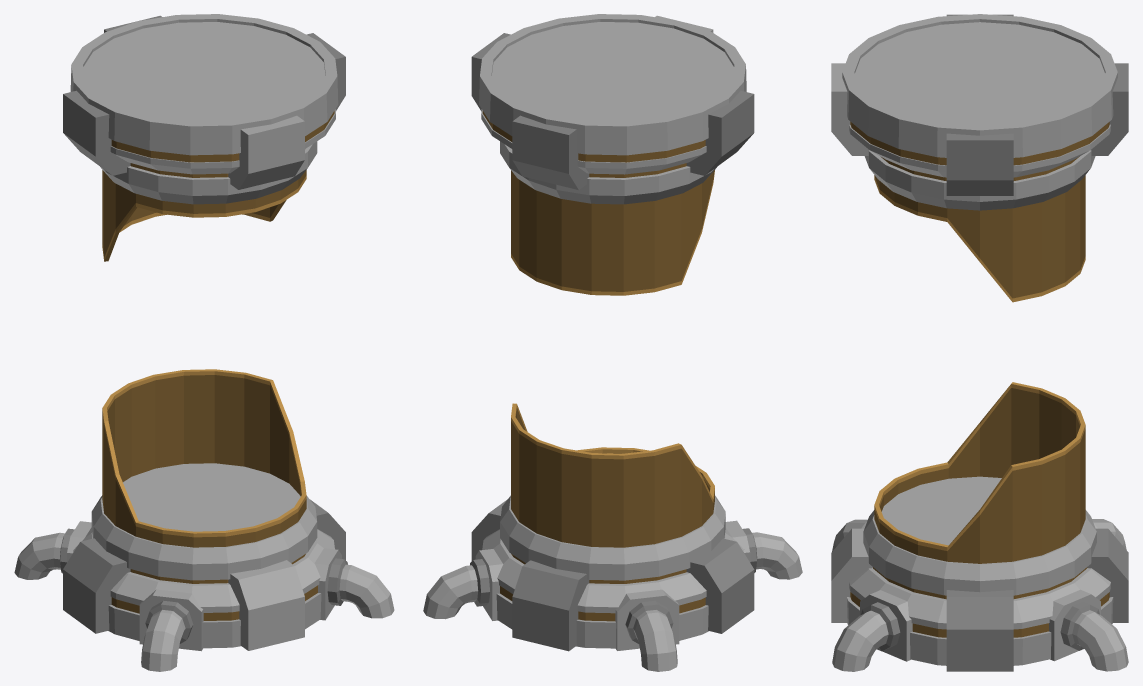
Rendered from Props_Pod_Empty_GD.glb.
3 views of the same model, side by side, from view 1: azimuth 30°, elevation 25°; view 2: azimuth 150°, elevation 25°; view 3: azimuth 270°, elevation 25° (orthographic). The views are drawn at different scales.
Parts seen in each view (by area): view 1: Props_Pod; view 2: Props_Pod; view 3: Props_Pod.
Boxes of the visible parts, bbox=[...] form: Props_Pod: bbox=[14, 14, 394, 671]; Props_Pod: bbox=[423, 14, 802, 671]; Props_Pod: bbox=[831, 14, 1128, 671].
Bounding box in the file's own units: 13.57 × 27.09 × 13.58.
